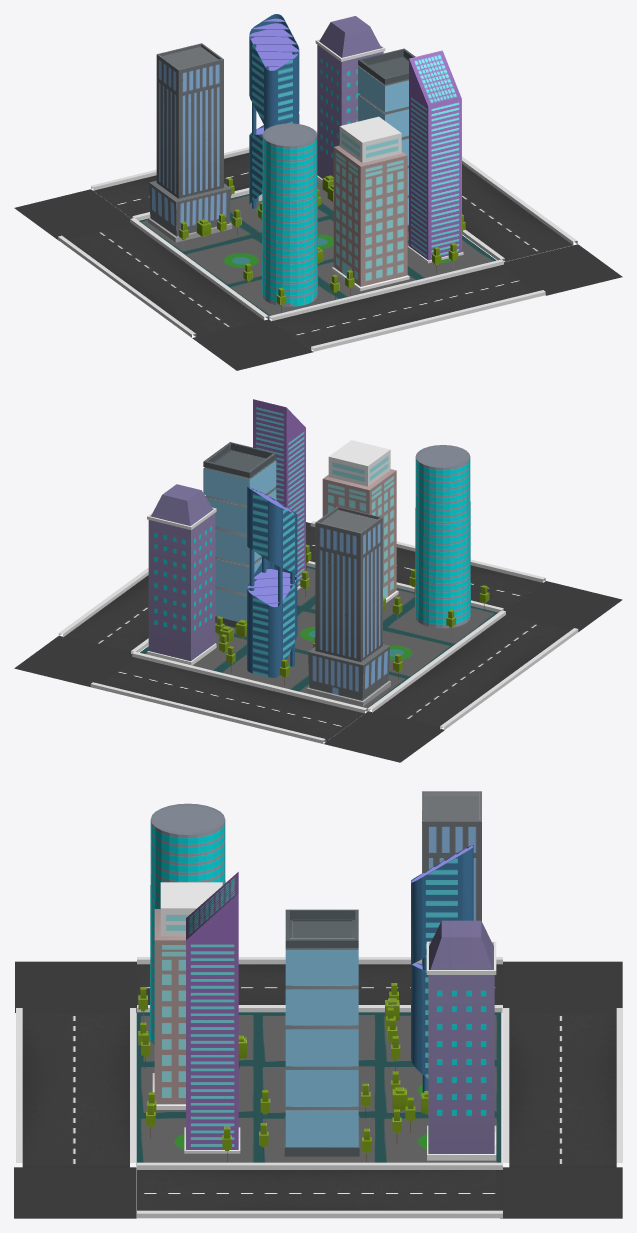
The model's file is City(Vasiliy).glb.
3 views of the same model, one above another, from view 1: azimuth 30°, elevation 25°; view 2: azimuth 150°, elevation 25°; view 3: azimuth 270°, elevation 25° (orthographic). The views are drawn at different scales.
Visible parts, largest first — view 1: business_2tower_1lvl, living_blue_3lvl, Road_Long_1_4.004, Road_Long_1_4.025, business_tower_3lvl, business_2tower_3lvl, Road_Long_1_4.029, living_science_2lvl, business_tower_1lvl, business_tower_2lvl, Road_Short_27.001, Road_Short_27.004 (+9 smaller); view 2: business_2tower_1lvl, business_tower_1lvl, Road_Long_1_4.013, Road_Long_1_4.025, business_2tower_3lvl, living_science_2lvl, business_tower_2lvl, living_blue_3lvl, business_tower_3lvl, Road_Long_1_4.029, Road_Long_1_4.004, Road_Short_27.001 (+9 smaller); view 3: Road_Long_1_4.029, Road_Long_1_4.013, Road_Long_1_4.004, business_tower_2lvl, business_tower_1lvl, business_tower_3lvl, living_blue_3lvl, business_2tower_3lvl, living_science_2lvl, Road_Long_1_4.025, Road_Short_27.004, Road_Short_27.001 (+12 smaller).
Part boxes in pixels (x1,y1,x2,y2): business_2tower_1lvl: (148, 43, 232, 242); living_blue_3lvl: (331, 116, 409, 291); Road_Long_1_4.004: (269, 259, 545, 351); Road_Long_1_4.025: (58, 218, 268, 337); business_tower_3lvl: (407, 50, 463, 263); business_2tower_3lvl: (262, 123, 317, 306); Road_Long_1_4.029: (462, 156, 577, 261); living_science_2lvl: (249, 14, 299, 208); business_tower_1lvl: (315, 16, 385, 183); business_tower_2lvl: (358, 48, 415, 231); Road_Short_27.001: (192, 319, 313, 370); Road_Short_27.004: (504, 244, 622, 295); business_2tower_1lvl: (306, 506, 390, 706); business_tower_1lvl: (147, 484, 216, 665); Road_Long_1_4.013: (90, 651, 367, 743); Road_Long_1_4.025: (367, 610, 578, 730); business_2tower_3lvl: (415, 445, 470, 628); living_science_2lvl: (247, 486, 297, 677); business_tower_2lvl: (203, 442, 276, 627); living_blue_3lvl: (322, 440, 398, 602); business_tower_3lvl: (253, 399, 305, 590); Road_Long_1_4.029: (58, 567, 148, 653); Road_Long_1_4.004: (306, 521, 545, 612); Road_Short_27.001: (505, 581, 622, 631); Road_Long_1_4.029: (137, 1162, 502, 1218); Road_Long_1_4.013: (502, 1008, 622, 1167); Road_Long_1_4.004: (16, 1008, 136, 1167); business_tower_2lvl: (284, 909, 359, 1156); business_tower_1lvl: (426, 920, 496, 1160); business_tower_3lvl: (184, 872, 240, 1153); living_blue_3lvl: (152, 882, 222, 1109); business_2tower_3lvl: (150, 803, 225, 1044); living_science_2lvl: (411, 845, 473, 1092); Road_Long_1_4.025: (137, 957, 502, 1012); Road_Short_27.004: (14, 1167, 136, 1218); Road_Short_27.001: (15, 961, 136, 1012).
Size of the model in its own units: 10.01 by 4.74 by 10.01.
Materials: 13 (13 with a texture image).
